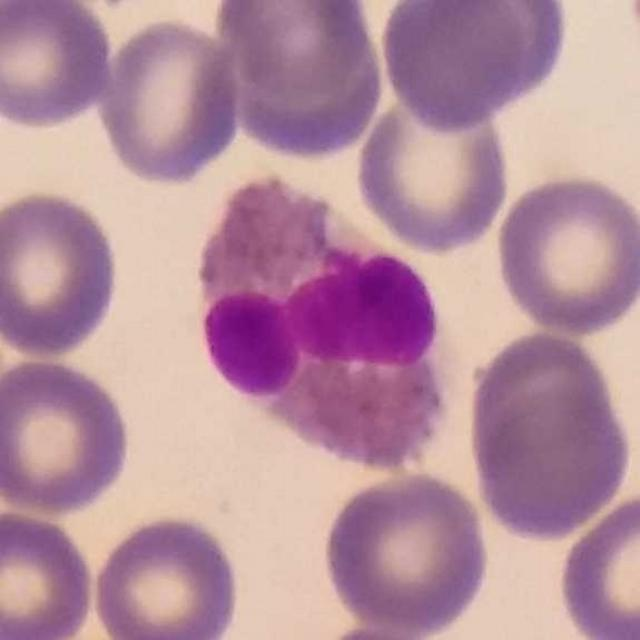eosino: (182, 160, 449, 473)
